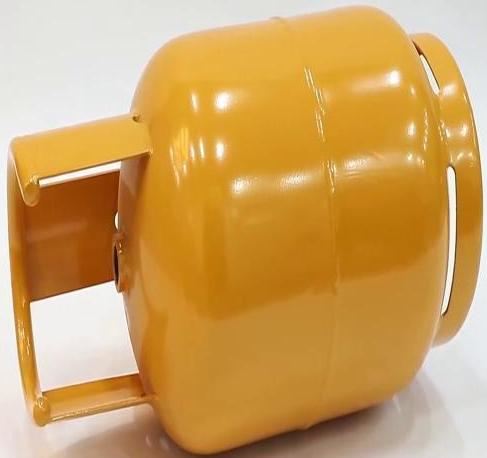cylinder: (1, 0, 487, 458)
